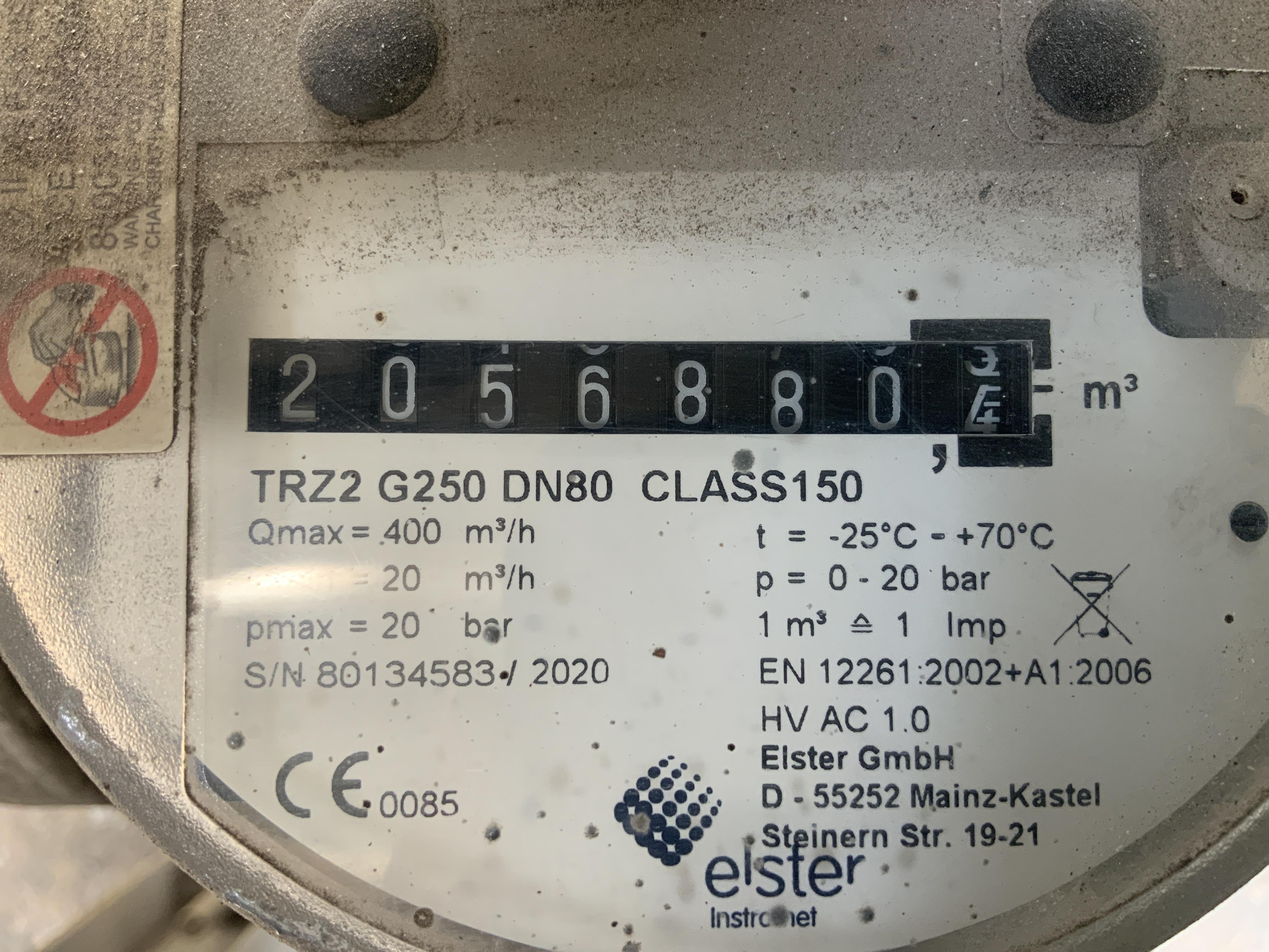analog_dial: (230, 299, 1078, 476)
